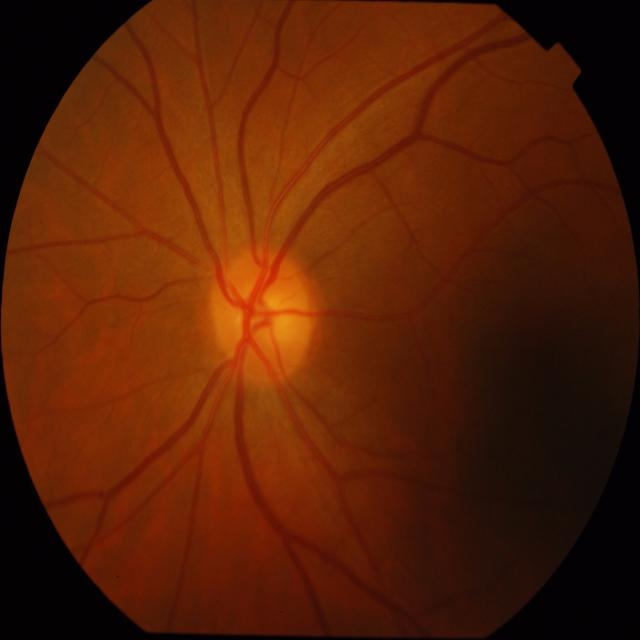OC: (234, 290, 291, 345)
OD: (208, 249, 314, 383)
